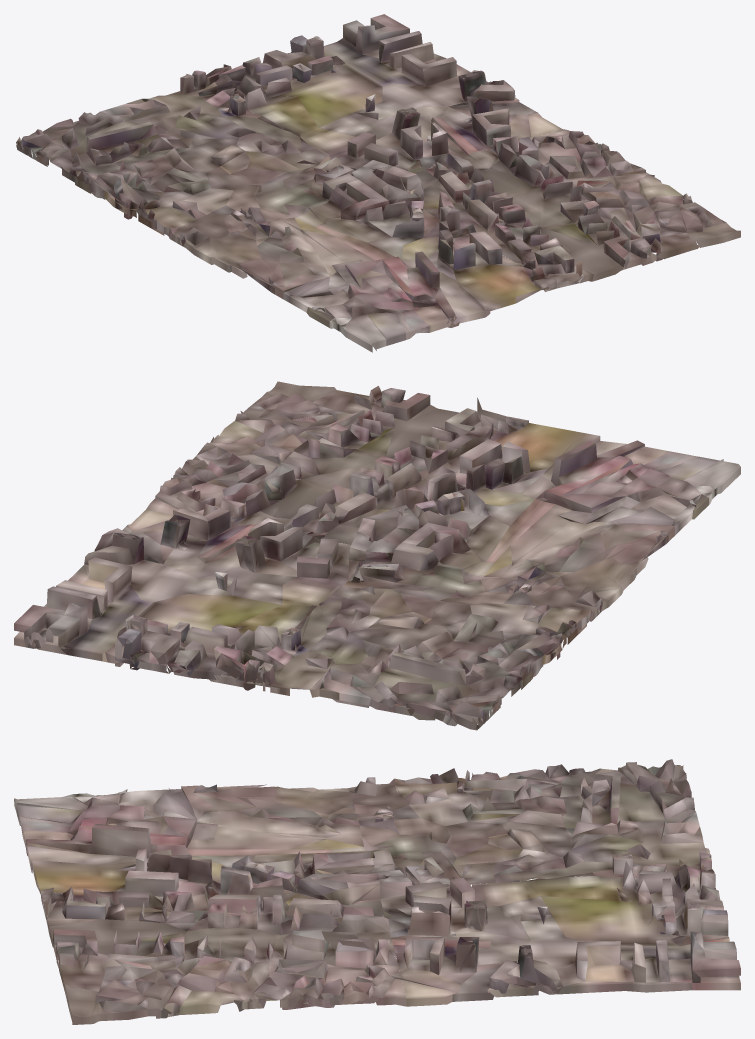
3 views of the same model, one above another, from view 1: azimuth 30°, elevation 25°; view 2: azimuth 150°, elevation 25°; view 3: azimuth 270°, elevation 25° (orthographic). The views are drawn at different scales.
Parts seen in each view (by area): view 1: Mesh_0; view 2: Mesh_0; view 3: Mesh_0.
Boxes of the visible parts, bbox=[...] form: Mesh_0: bbox=[16, 14, 740, 352]; Mesh_0: bbox=[14, 381, 740, 730]; Mesh_0: bbox=[14, 759, 740, 1024].
Bounding box in the file's own units: 1069 × 84.31 × 1318.
Materials: 2 (2 with a texture image).
